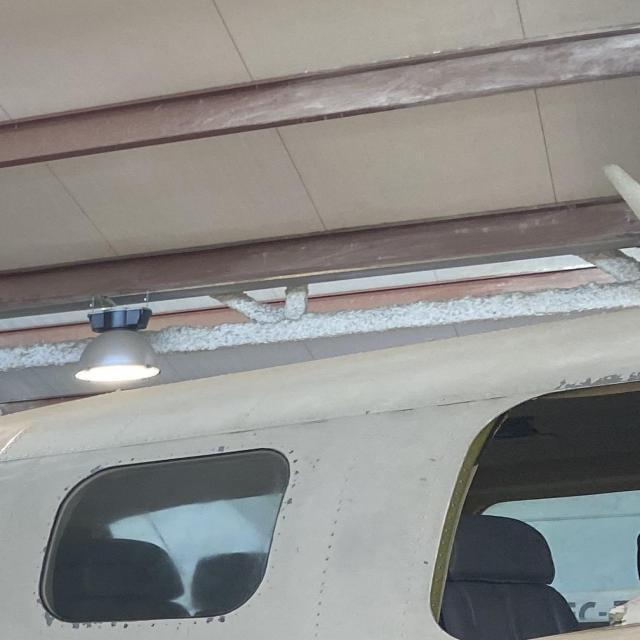Paint-off: (44, 607, 57, 626), (213, 440, 229, 453)
